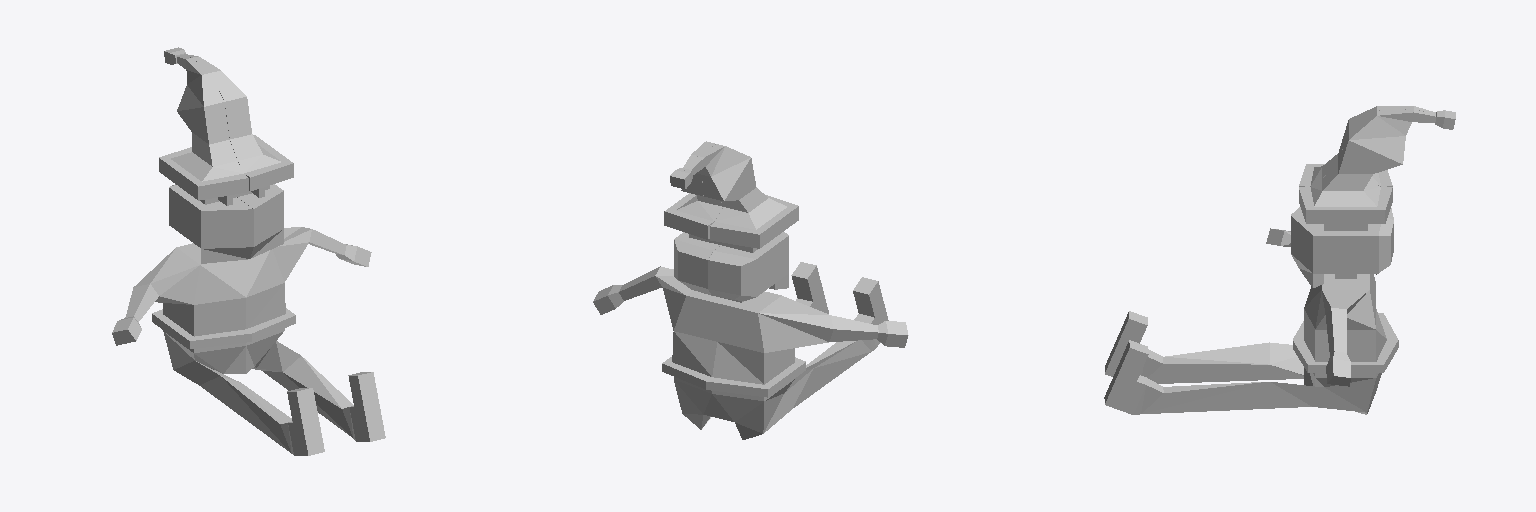
Rendered from Santa-Sit.obj.
3 renders of one model, left to right at view 1: azimuth 30°, elevation 25°; view 2: azimuth 150°, elevation 25°; view 3: azimuth 270°, elevation 25°, orthographic.
Parts seen in each view (by area): view 1: Cube; view 2: Cube; view 3: Cube.
Part boxes in pixels (bbox=[...]): Cube: bbox=[112, 47, 385, 455]; Cube: bbox=[593, 141, 908, 439]; Cube: bbox=[1104, 106, 1455, 414].
Size of the model in its own units: 4.48 by 4.46 by 4.78.